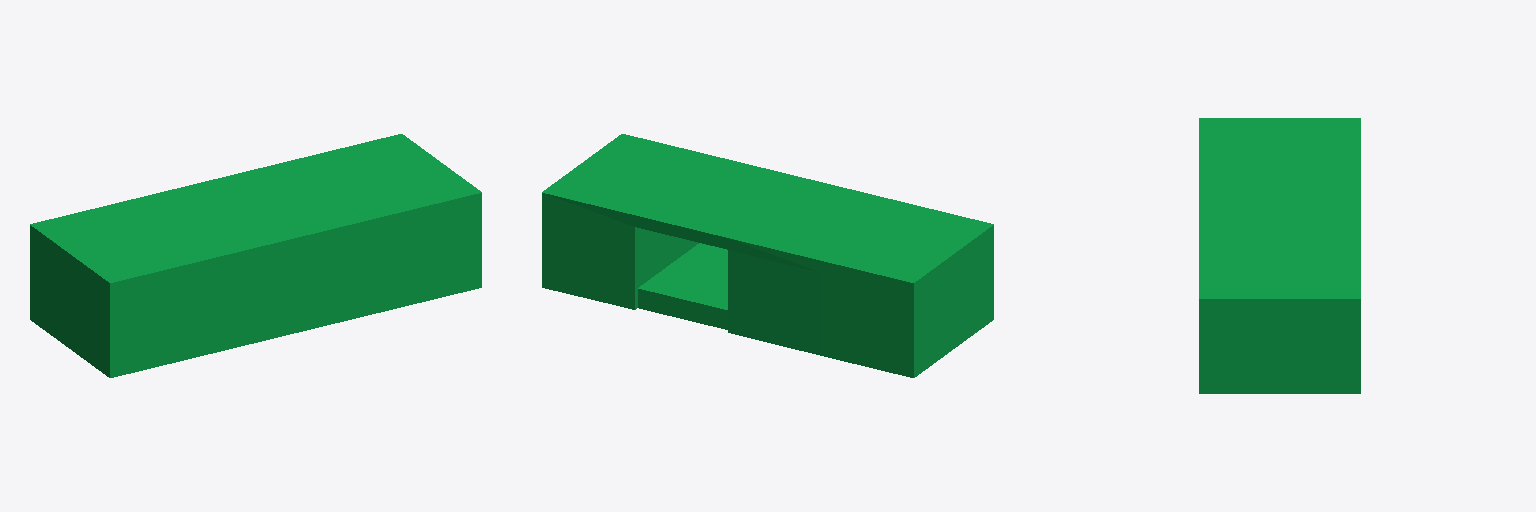
File: studio_desk3.obj
The picture shows the model from 3 angles: view 1: azimuth 30°, elevation 25°; view 2: azimuth 150°, elevation 25°; view 3: azimuth 270°, elevation 25°; orthographic projection.
Visible parts, largest first — view 1: Box004; view 2: Box004; view 3: Box004.
Boxes of the visible parts, x1,y1,x2,y2 form: Box004: [30, 134, 481, 377]; Box004: [542, 134, 993, 377]; Box004: [1199, 118, 1360, 393].
Bounding box in the file's own units: 1.49 × 0.3637 × 0.559.